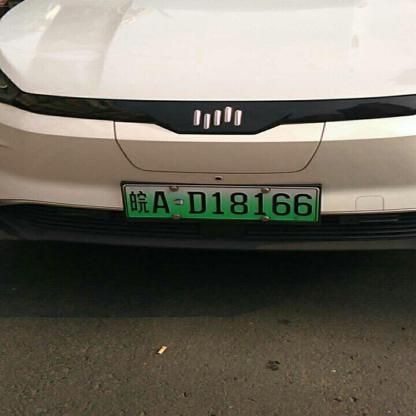lp: (122, 185, 318, 220)
